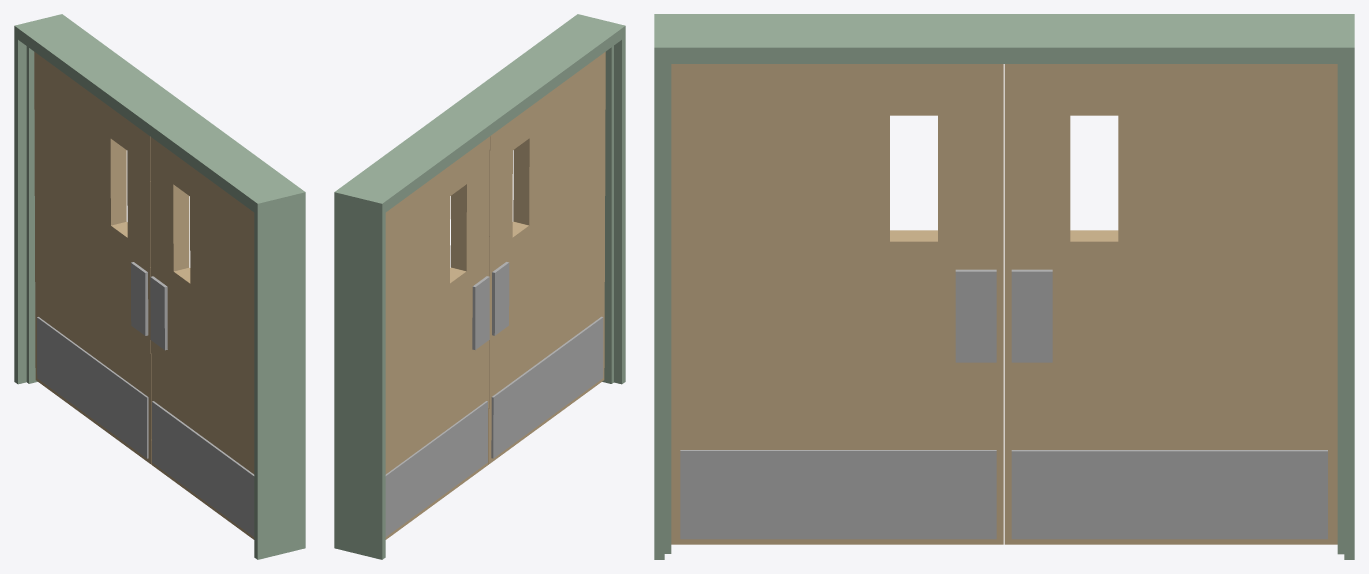
The model's file is double door.fbx.
The picture shows the model from 3 angles, left to right: view 1: azimuth 30°, elevation 25°; view 2: azimuth 150°, elevation 25°; view 3: azimuth 270°, elevation 25°; orthographic projection. The views are drawn at different scales.
Visible parts, largest first — view 1: pCube4, pCube6, pCube2; view 2: pCube4, pCube2, pCube6; view 3: pCube6, pCube2, pCube4.
Boxes of the visible parts, box(x1,y1,x2,y2) form: pCube4: box(14, 14, 305, 559); pCube6: box(34, 52, 151, 464); pCube2: box(150, 137, 254, 539); pCube4: box(334, 14, 625, 559); pCube2: box(488, 52, 605, 464); pCube6: box(385, 136, 489, 539); pCube6: box(1004, 64, 1337, 544); pCube2: box(671, 64, 1003, 544); pCube4: box(654, 14, 1354, 559).
Size of the model in its own units: 0.9734 by 6.92 by 8.57.
